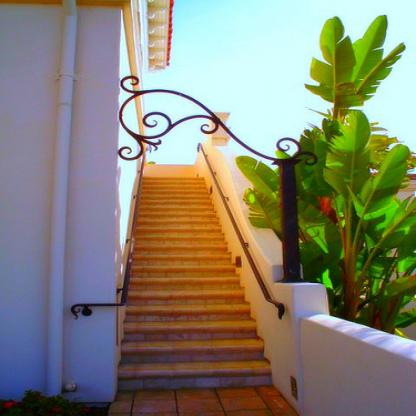stairs: (138, 319, 251, 397)
